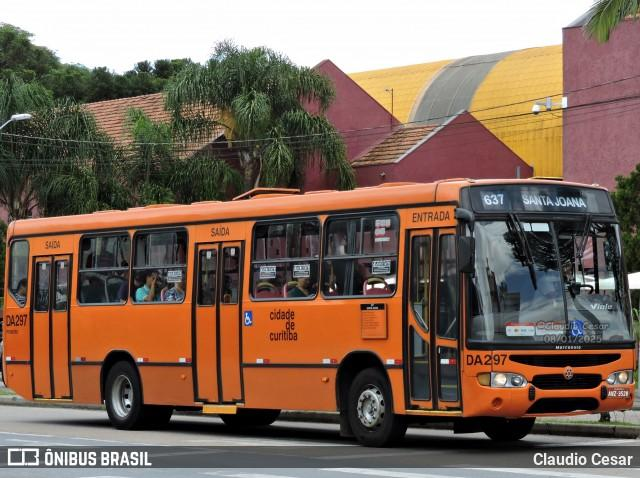SANTA JOANA: (519, 192, 589, 212)
